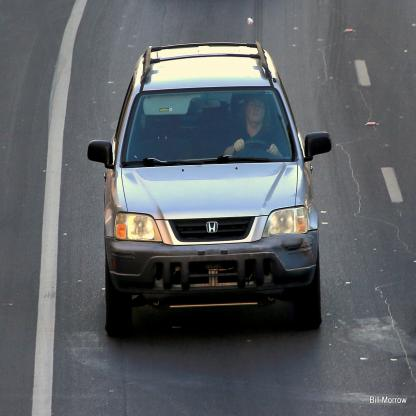Car: (87, 42, 332, 334)
